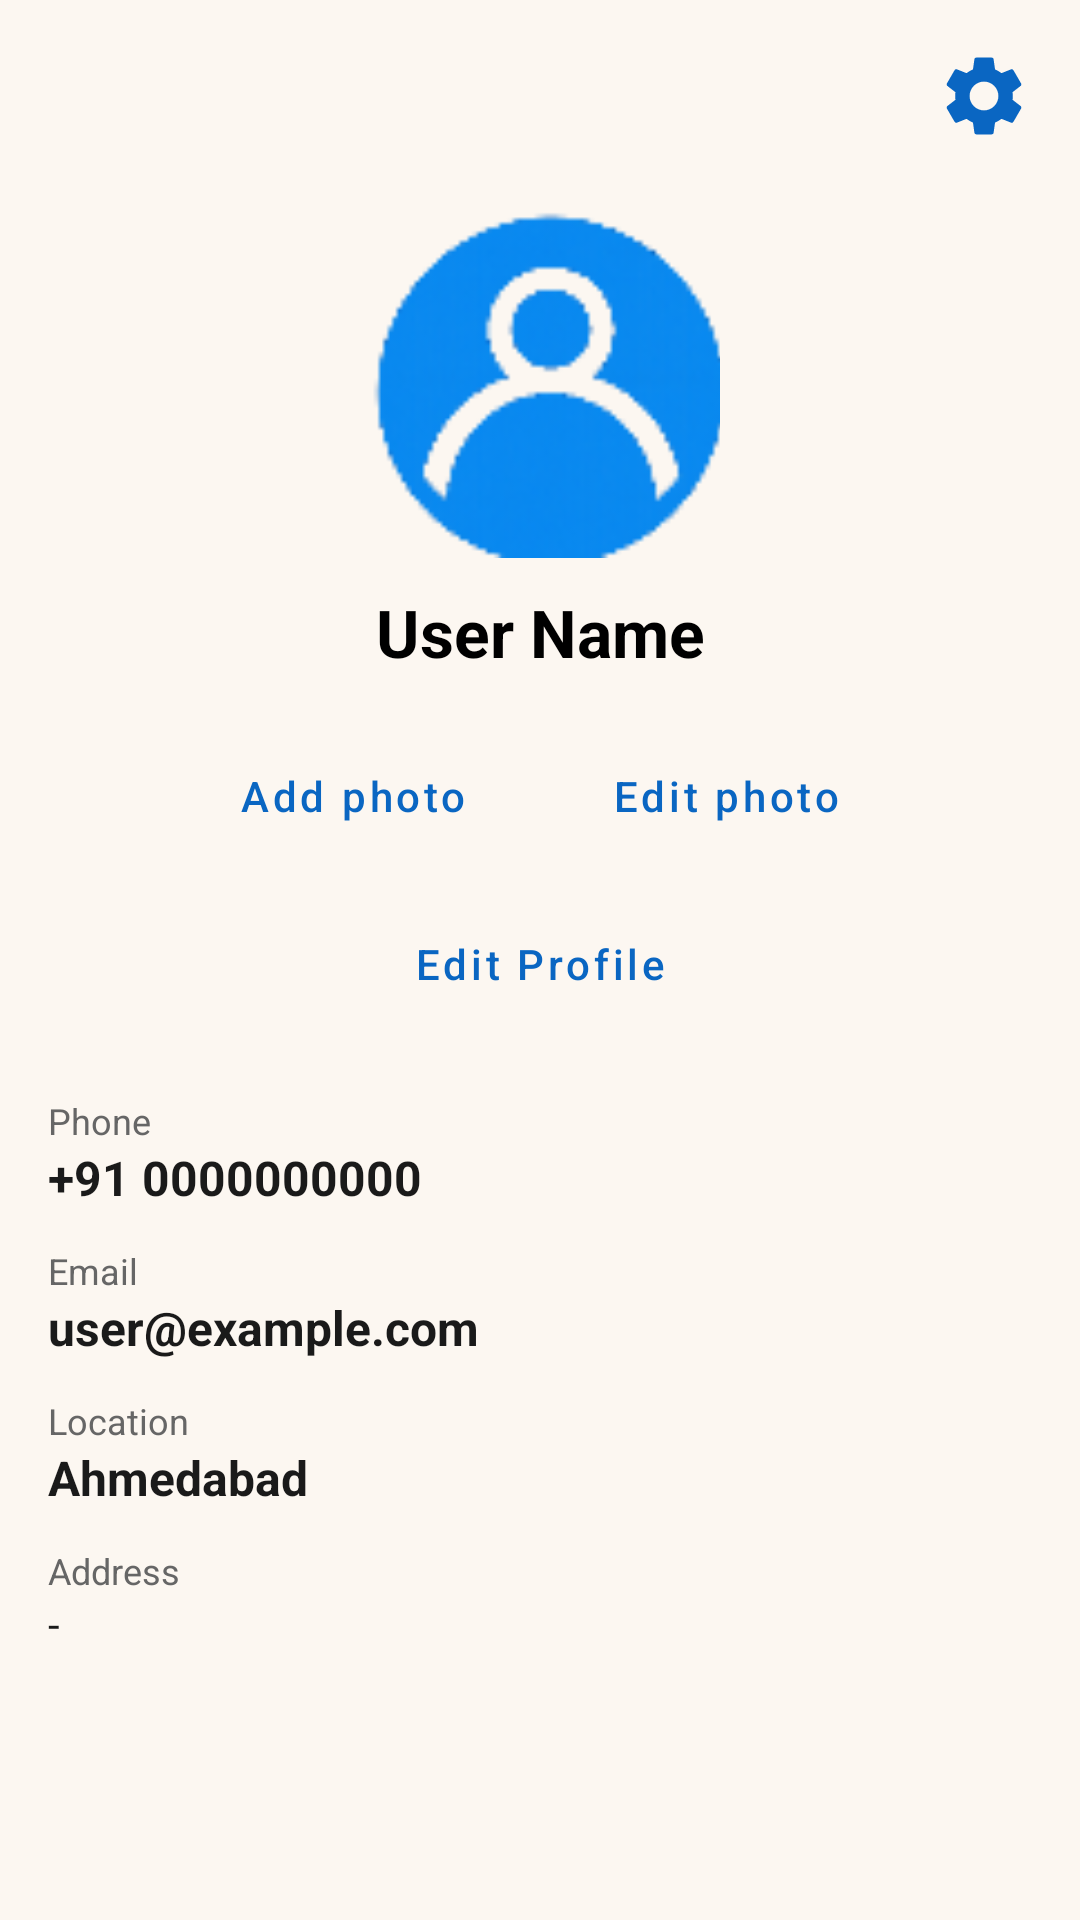

Screen size 1080x1920. Icon name, then its center in pixels as [x,y]:
settings: [984,96]
